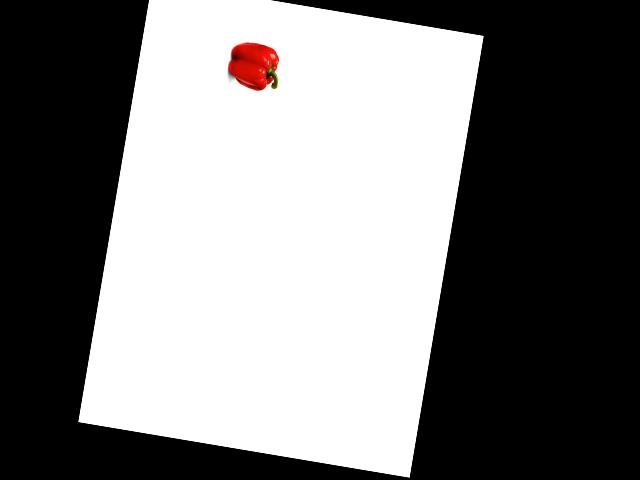bell_pepper: (224, 38, 284, 94)
